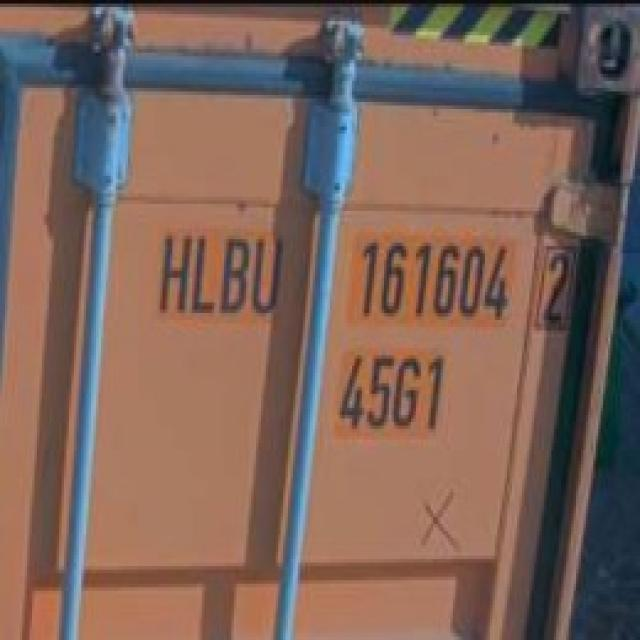dv: (529, 241, 578, 334)
owner: (153, 227, 287, 323)
serial: (353, 230, 514, 329)
size: (334, 345, 445, 438)
